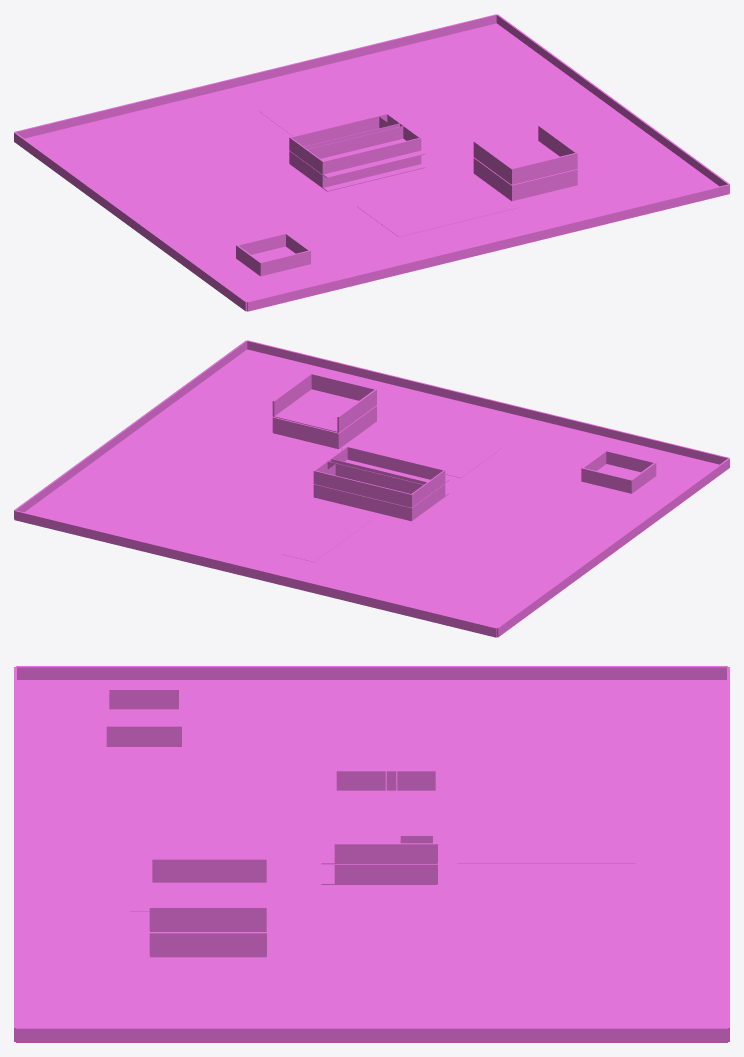
Rendered from farmhouse_collision.glb.
The picture shows the model from 3 angles, top to bottom: view 1: azimuth 30°, elevation 25°; view 2: azimuth 150°, elevation 25°; view 3: azimuth 270°, elevation 25°; orthographic projection. The views are drawn at different scales.
Visible parts, largest first — view 1: COL_Floor_Site_Lawn, COL_Bnd_S, COL_Floor_PoolDeck, COL_Bnd_N, COL_Bnd_W, COL_Bnd_E, COL_Wall_Res_FF_S, COL_Wall_Res_FF_H7, COL_Wall_Res_FF_N, COL_Floor_Club_FF, COL_Floor_Drive, COL_Wall_Club_FF_S (+10 smaller); view 2: COL_Floor_Site_Lawn, COL_Bnd_N, COL_Bnd_S, COL_Floor_PoolDeck, COL_Bnd_W, COL_Bnd_E, COL_Floor_Club_FF, COL_Floor_Drive, COL_Wall_Res_FF_N, COL_Wall_Res_GF_N, COL_Wall_Res_FF_S, COL_Wall_Res_FF_H85 (+8 smaller); view 3: COL_Floor_Site_Lawn, COL_Bnd_E, COL_Bnd_W, COL_Floor_PoolDeck, COL_Floor_Res_FF, COL_Floor_Drive, COL_Floor_Club_FF, COL_Wall_Club_FF_E, COL_Wall_Club_GF_E, COL_Wall_Club_FF_W, COL_Wall_Res_FF_E, COL_Wall_Res_GF_E (+7 smaller).
Boxes of the visible parts, box(x1,y1,x2,y2) form: COL_Floor_Site_Lawn: box(25, 23, 719, 301); COL_Bnd_S: box(247, 184, 729, 311); COL_Floor_PoolDeck: box(357, 177, 518, 236); COL_Bnd_N: box(15, 14, 496, 138); COL_Bnd_W: box(14, 132, 246, 311); COL_Bnd_E: box(496, 14, 729, 193); COL_Wall_Res_FF_S: box(323, 138, 420, 174); COL_Wall_Res_FF_H7: box(307, 126, 403, 158); COL_Wall_Res_FF_N: box(291, 113, 387, 146); COL_Floor_Club_FF: box(474, 141, 577, 184); COL_Floor_Drive: box(258, 103, 324, 136); COL_Wall_Club_FF_S: box(511, 152, 577, 184); COL_Floor_Site_Lawn: box(24, 349, 718, 627); COL_Bnd_N: box(14, 510, 496, 637); COL_Bnd_S: box(247, 340, 728, 464); COL_Floor_PoolDeck: box(341, 418, 502, 477); COL_Bnd_W: box(497, 458, 729, 637); COL_Bnd_E: box(14, 340, 247, 519); COL_Floor_Club_FF: box(273, 389, 376, 432); COL_Floor_Drive: box(282, 512, 371, 562); COL_Wall_Res_FF_N: box(313, 470, 411, 507); COL_Wall_Res_GF_N: box(313, 484, 411, 520); COL_Wall_Res_FF_S: box(347, 446, 444, 479); COL_Wall_Res_FF_H85: box(327, 461, 423, 493); COL_Floor_Site_Lawn: box(17, 680, 726, 1027); COL_Bnd_E: box(16, 1027, 727, 1042); COL_Bnd_W: box(16, 666, 727, 679); COL_Floor_PoolDeck: box(130, 820, 257, 911); COL_Floor_Res_FF: box(335, 790, 436, 864); COL_Floor_Drive: box(457, 839, 635, 863); COL_Floor_Club_FF: box(150, 882, 266, 931); COL_Wall_Club_FF_E: box(150, 907, 266, 931); COL_Wall_Club_GF_E: box(150, 932, 266, 956); COL_Wall_Club_FF_W: box(150, 858, 266, 882); COL_Wall_Res_FF_E: box(335, 843, 437, 863); COL_Wall_Res_GF_E: box(335, 864, 437, 884).
Bounding box in the file's own units: 121 × 9.5 × 101.
